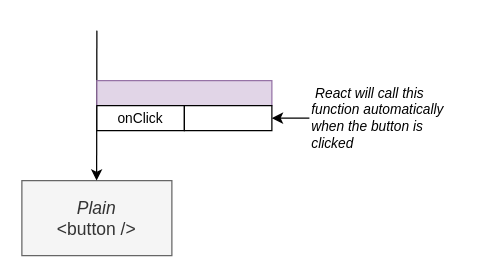
Some shapes in this 481 by 278 pixel diagram are drawn without their labels. Here are the shapes that lost their labels. From the top down, the centre of each, then its label:
At [184,92]: "Props".
At [227,117]: "handleClick".
